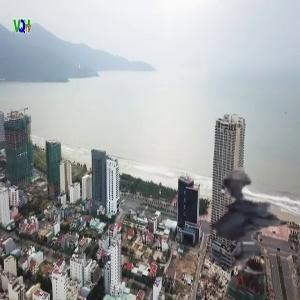drone: (165, 159, 290, 284)
